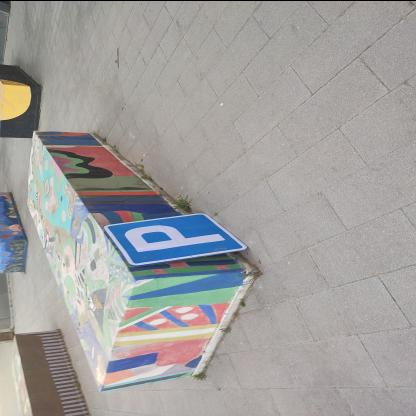Parking-Sign: (102, 212, 252, 268)
